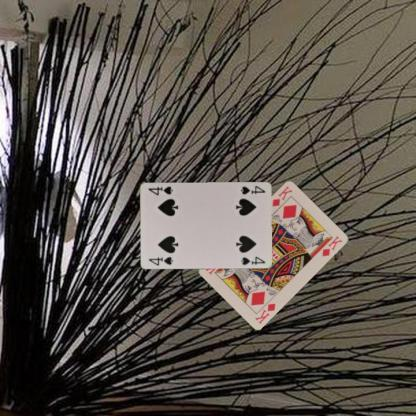4s: (146, 254, 175, 266), (239, 183, 266, 195)
Kd: (252, 300, 277, 326), (269, 183, 294, 208)
